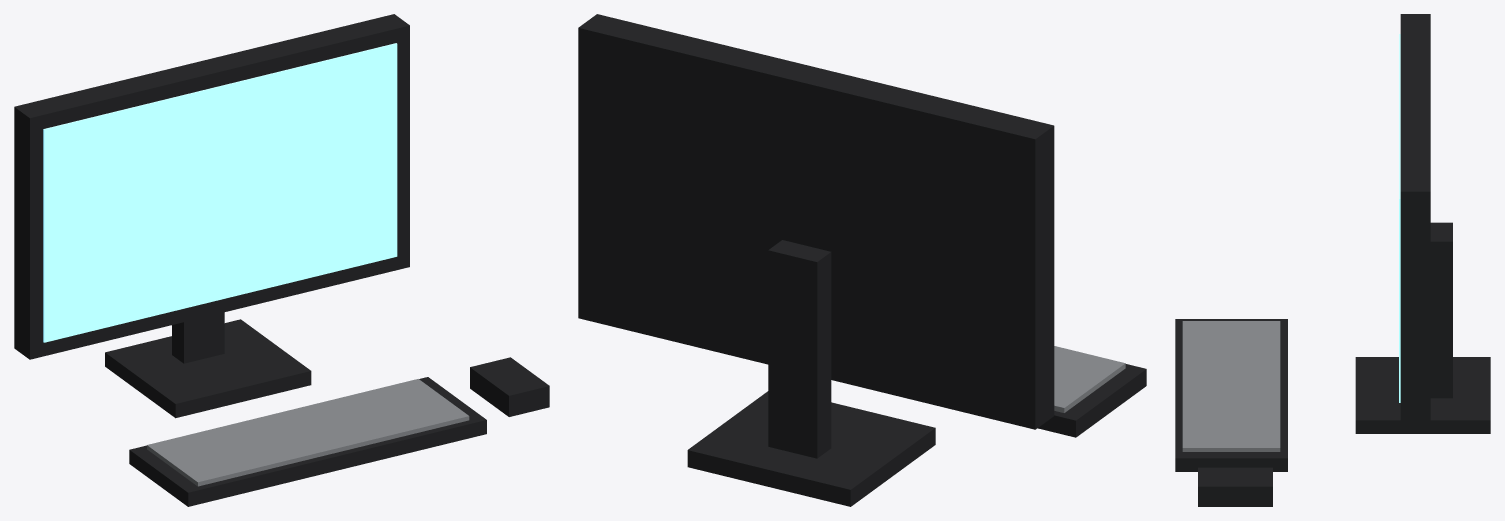
File: desk_computer.glb
The picture shows the model from 3 angles, left to right: view 1: azimuth 30°, elevation 25°; view 2: azimuth 150°, elevation 25°; view 3: azimuth 270°, elevation 25°; orthographic projection. The views are drawn at different scales.
Visible parts, largest first — view 1: desk_computer; view 2: desk_computer; view 3: desk_computer.
Boxes of the visible parts, x1,y1,x2,y2 form: desk_computer: [14, 14, 549, 506]; desk_computer: [578, 14, 1146, 506]; desk_computer: [1175, 14, 1490, 506].
Bounding box in the file's own units: 0.61 × 0.44 × 0.42.
1 material, 1 textured.
